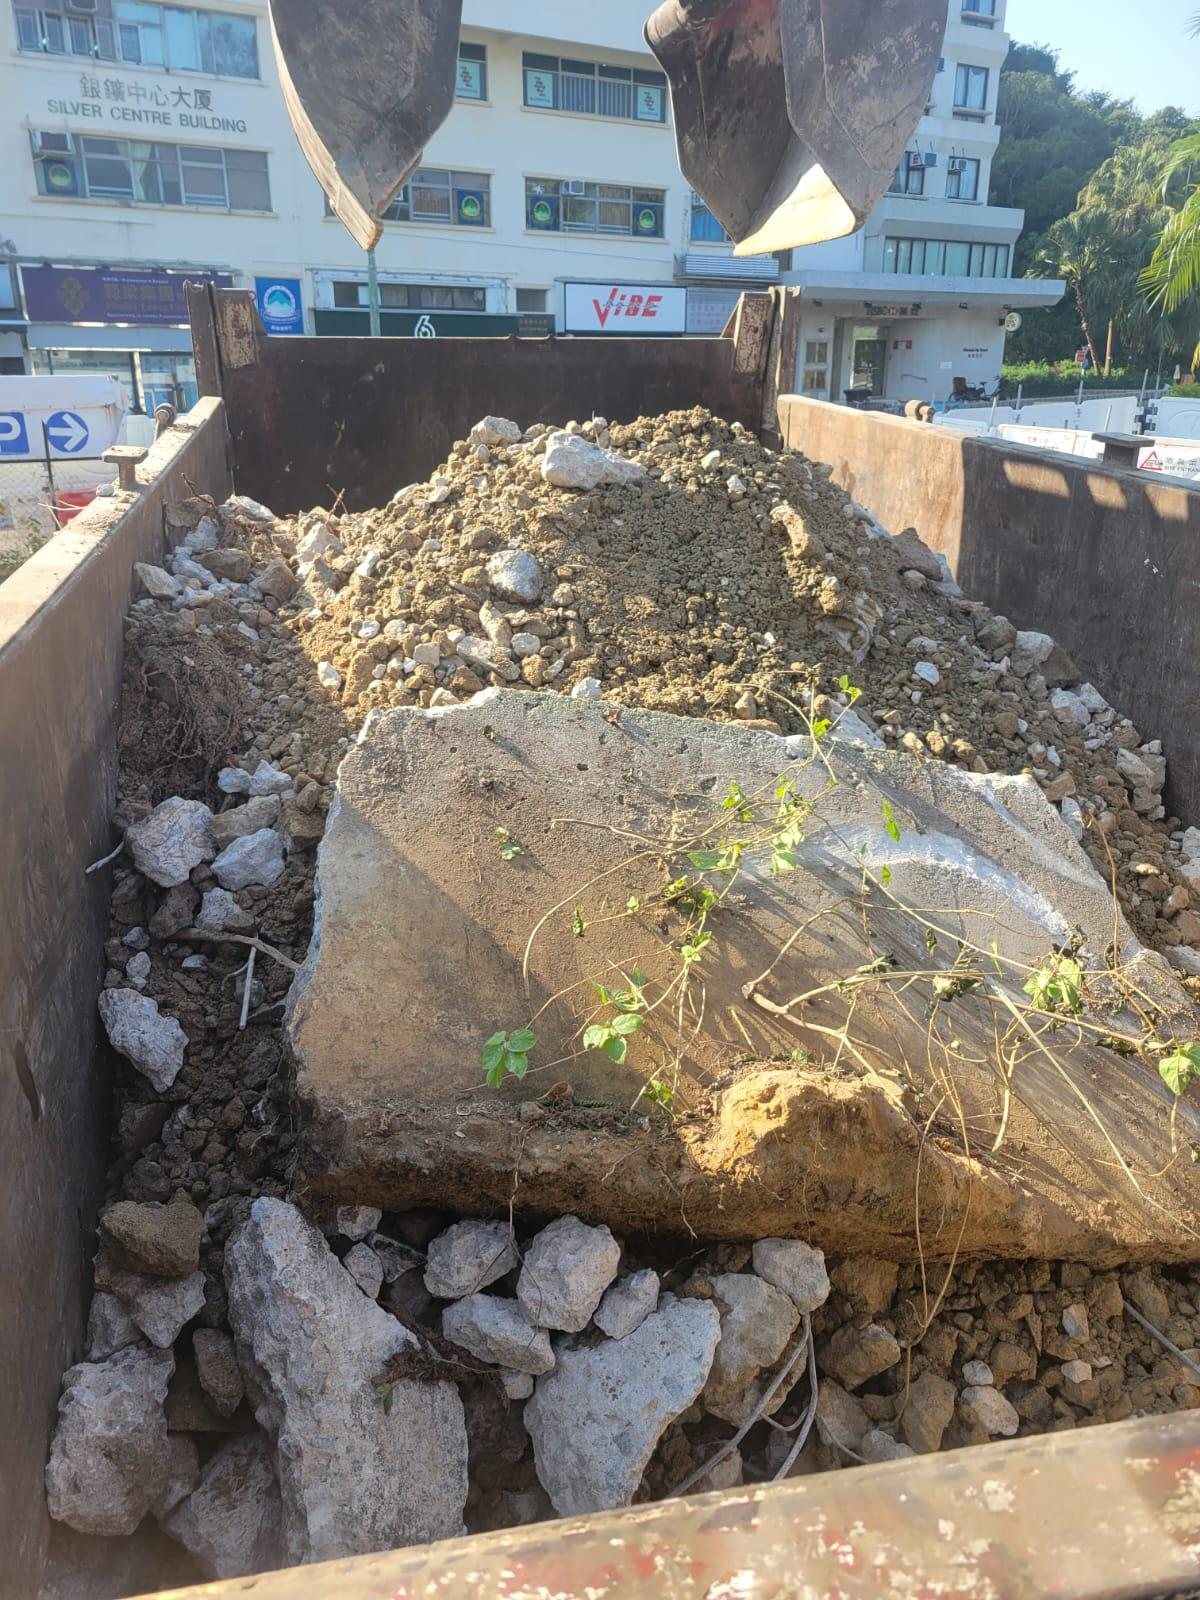dry: (77, 427, 1180, 1562)
